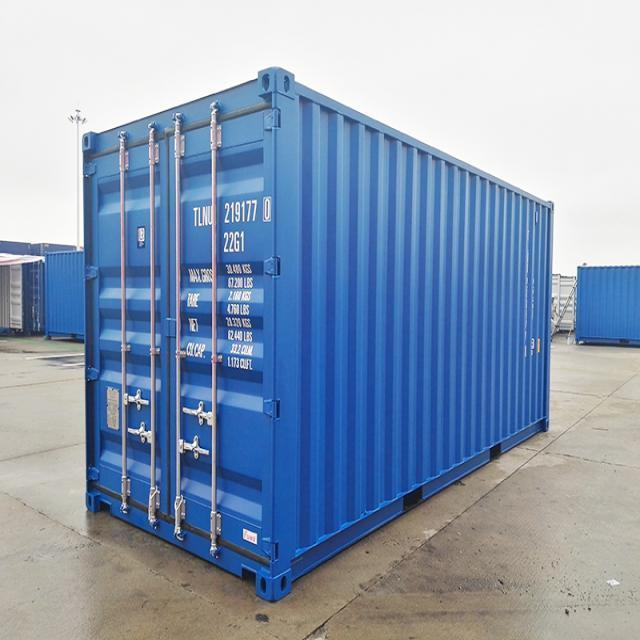ISO: (222, 231, 246, 254)
container_number: (191, 202, 271, 226)
